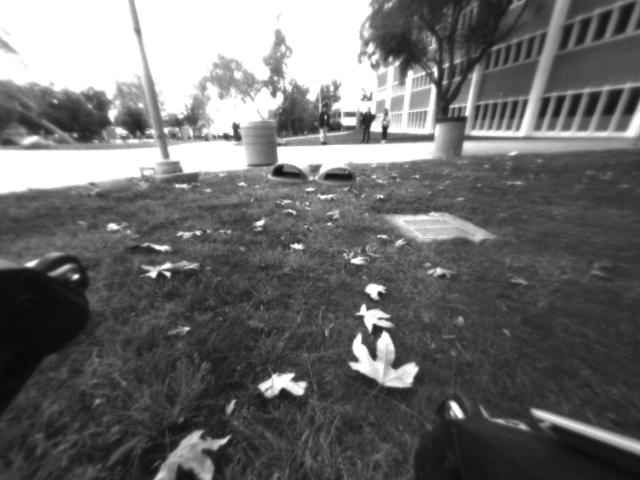trashcan: (239, 116, 281, 173), (433, 114, 466, 158)
